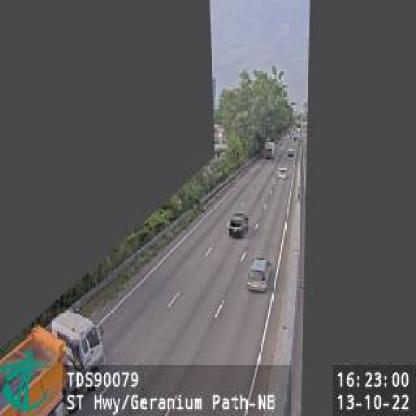Car: (247, 257, 272, 294), (228, 212, 247, 236), (278, 167, 288, 182)
Truck: (0, 304, 103, 416)
